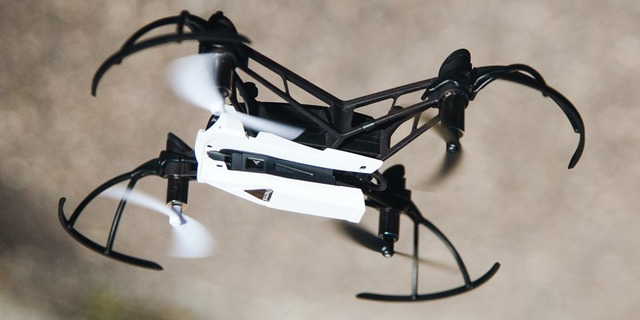drone: (58, 9, 588, 306)
